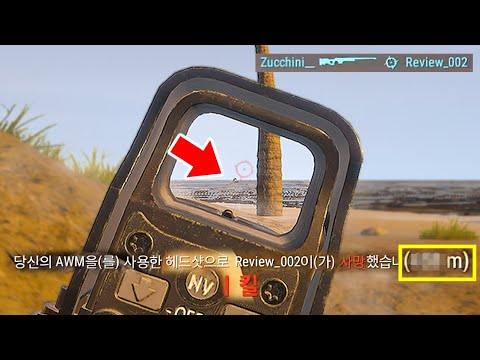AWM: (54, 254, 85, 267)
Review_002: (405, 55, 469, 69)
Zucchini__: (260, 56, 315, 69)
